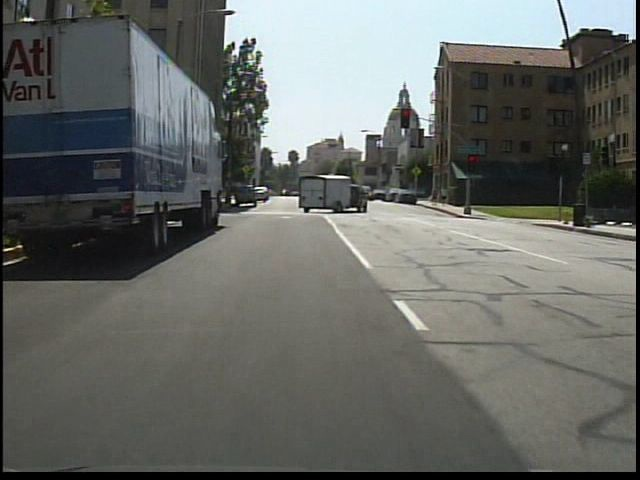person: (439, 184, 451, 210), (430, 184, 441, 209)
